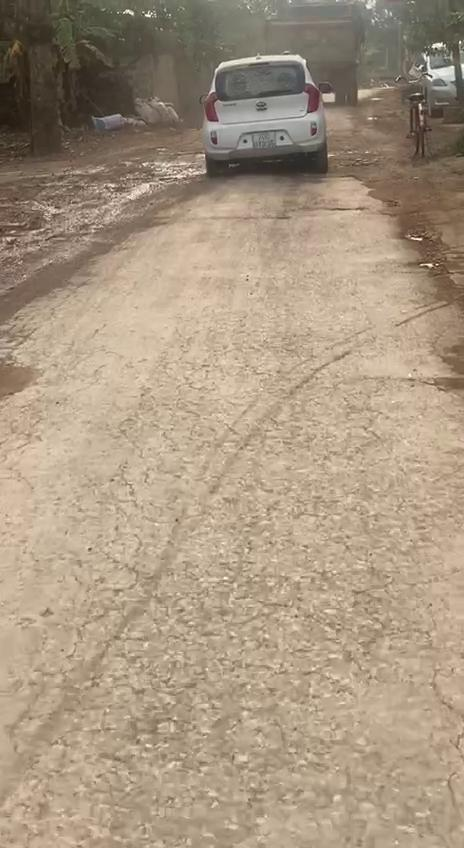pothole: (0, 354, 38, 404)
